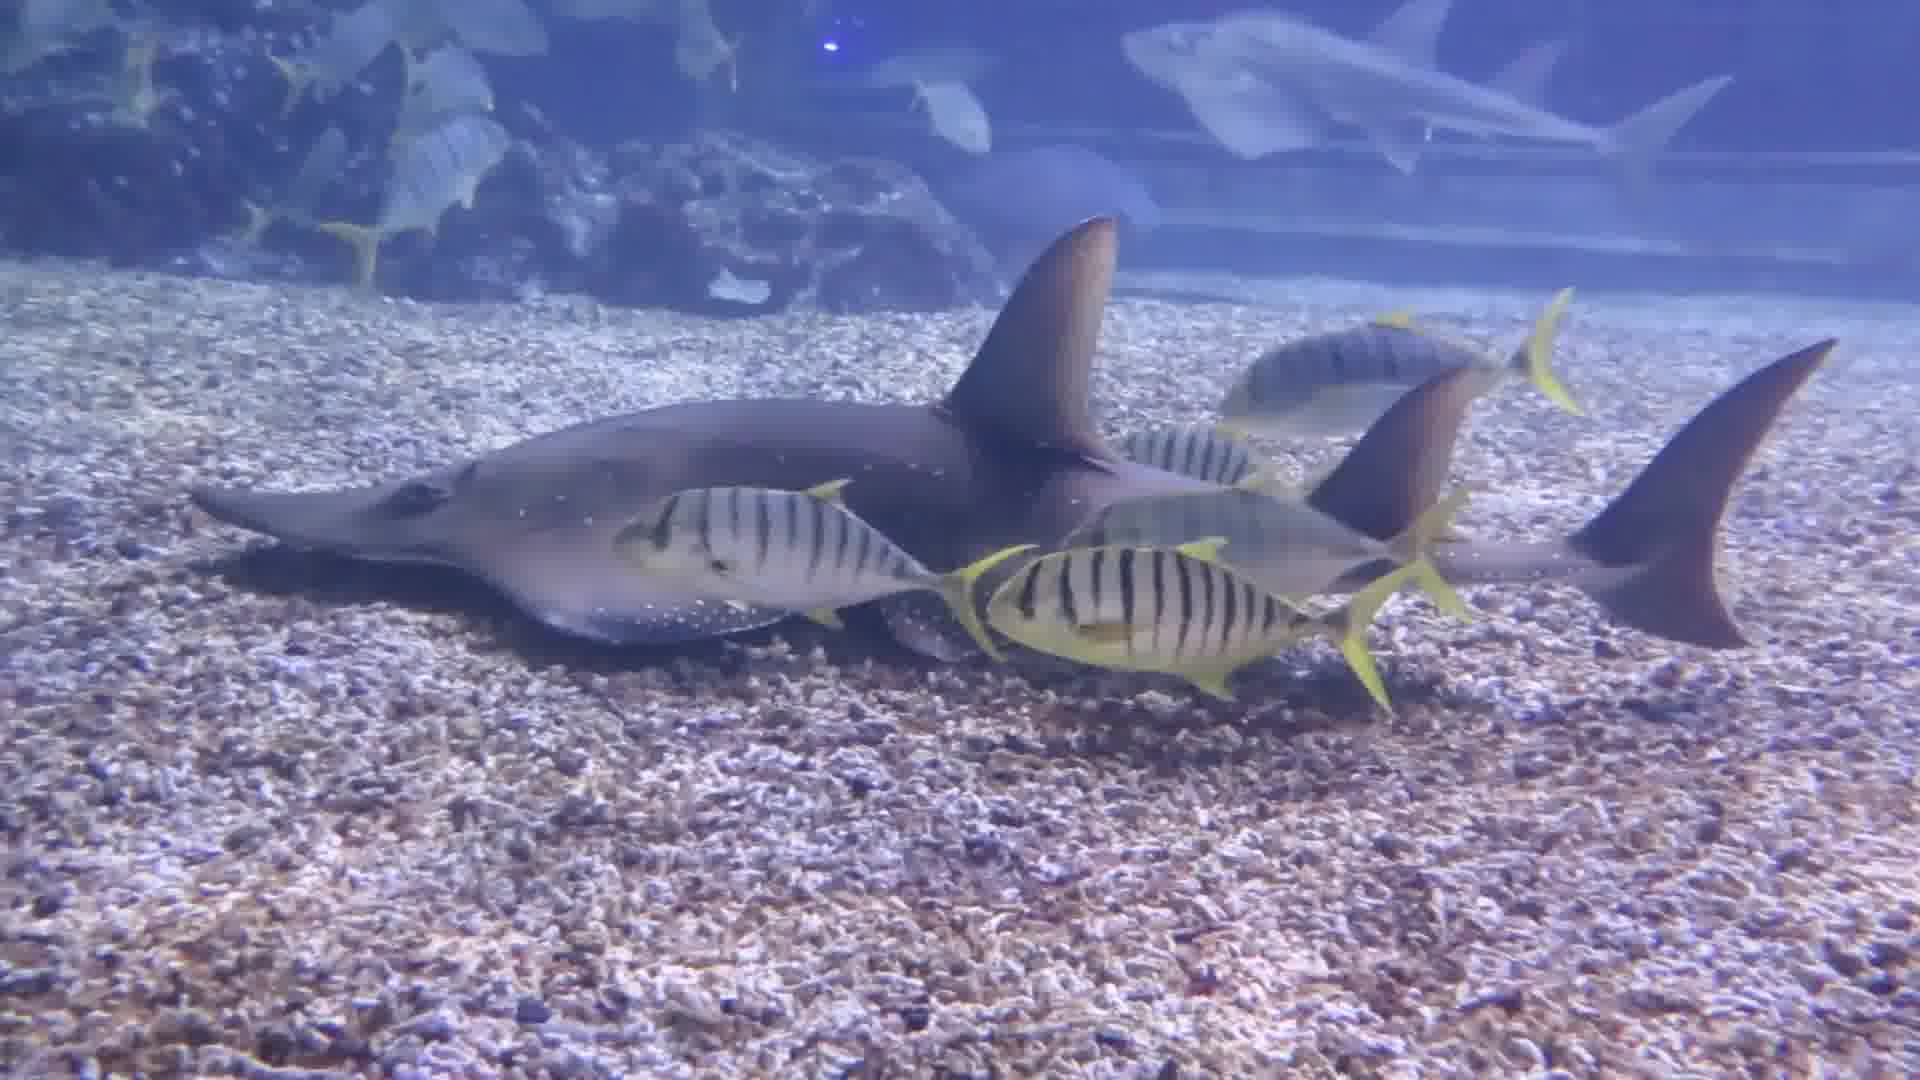Rhychobatus djiddensis: (194, 212, 1844, 690)
